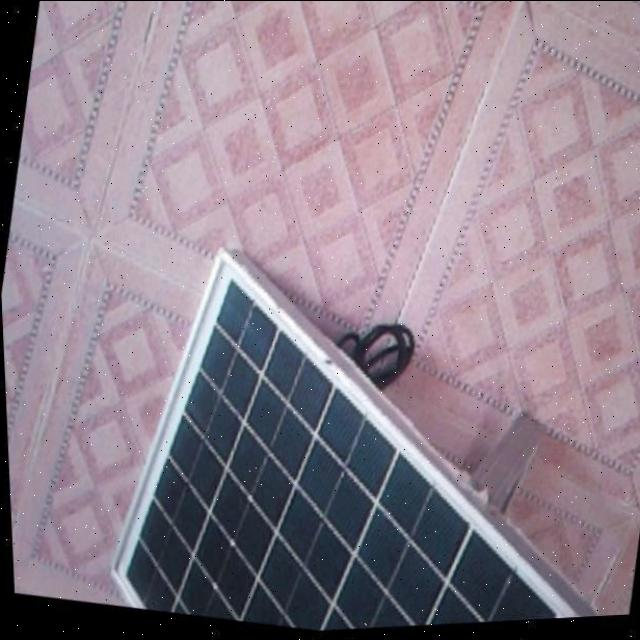Normal Solar Panel: (90, 224, 640, 640)
